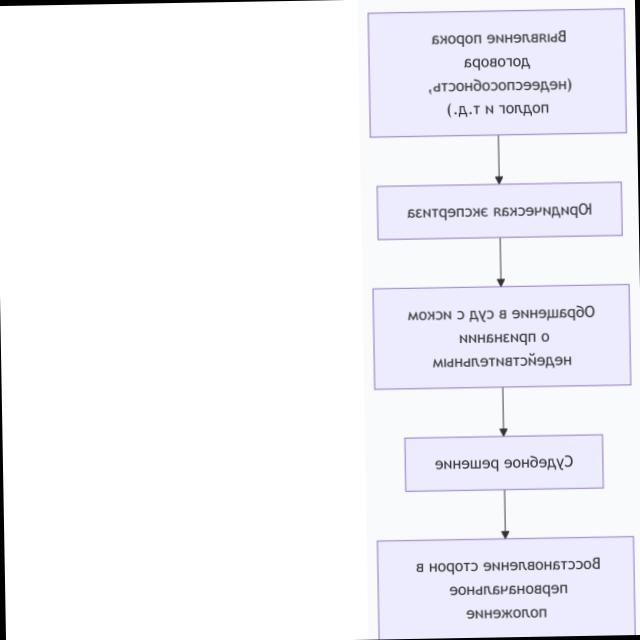arrow: (488, 136, 508, 186), (495, 388, 511, 438), (492, 236, 507, 286), (498, 490, 512, 540)
rectangle: (366, 9, 626, 138), (372, 283, 630, 389), (376, 537, 635, 639), (376, 182, 622, 240), (403, 435, 603, 493)
